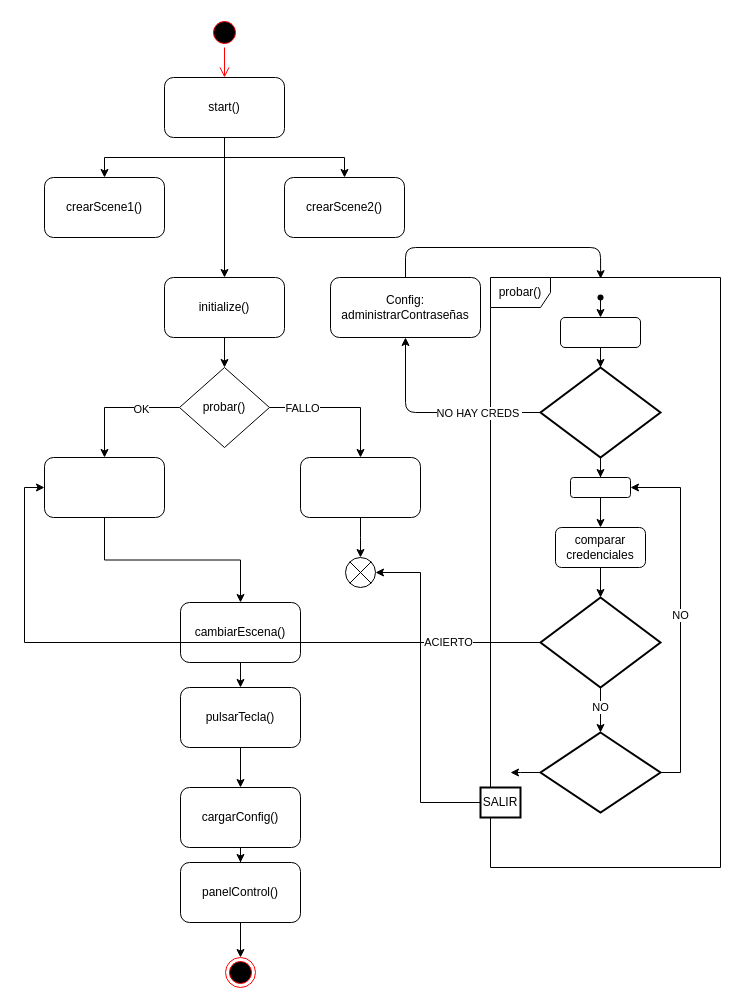
Image size: 738x1005. Some labels were removed from this diagram. The shapes that lost their labels are listed below. From the top down, each one's centre as x and y in pixels, then its label:
the point at 600,332: intentos = 1
the point at 600,412: recorrer credenciales guardadas
the point at 104,487: entrar()
the point at 360,487: Salir()
the point at 600,487: intentos++
the point at 600,642: acierto && intentos<=5
the point at 600,772: intentos > 5
